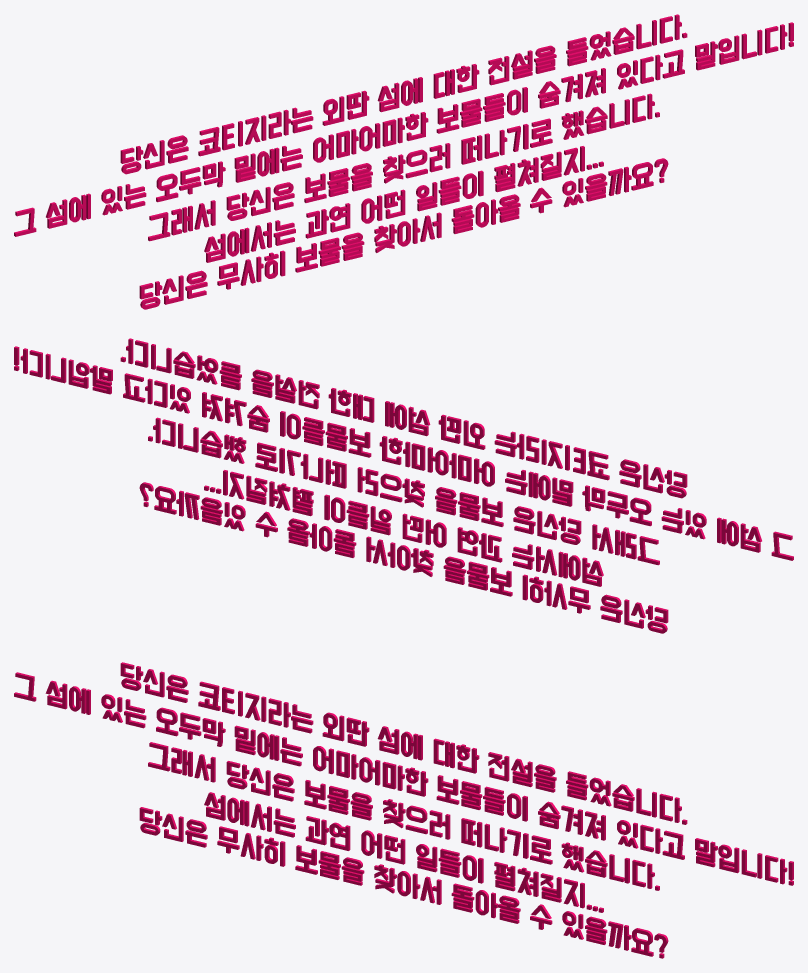
The model's file is Synop2.FBX.
3 renders of one model, top to bottom at view 1: azimuth 30°, elevation 25°; view 2: azimuth 150°, elevation 25°; view 3: azimuth 330°, elevation 25°, orthographic.
Parts seen in each view (by area): view 1: Text010, Text009, Text013, Text011, Text012; view 2: Text010, Text009, Text013, Text011, Text012; view 3: Text010, Text009, Text013, Text011, Text012.
Boxes of the visible parts, x1,y1,x2,y2 form: Text010: (14, 22, 793, 236); Text009: (120, 14, 687, 174); Text013: (139, 158, 668, 309); Text011: (148, 93, 659, 241); Text012: (204, 146, 603, 262); Text010: (14, 346, 793, 560); Text009: (120, 338, 687, 498); Text013: (139, 482, 668, 633); Text011: (148, 417, 659, 565); Text012: (204, 470, 603, 586); Text010: (14, 672, 793, 885); Text009: (120, 662, 687, 824); Text013: (139, 807, 668, 958); Text011: (148, 742, 659, 890); Text012: (204, 792, 603, 912).
Size of the model in its own units: 2688 by 544 by 10.
